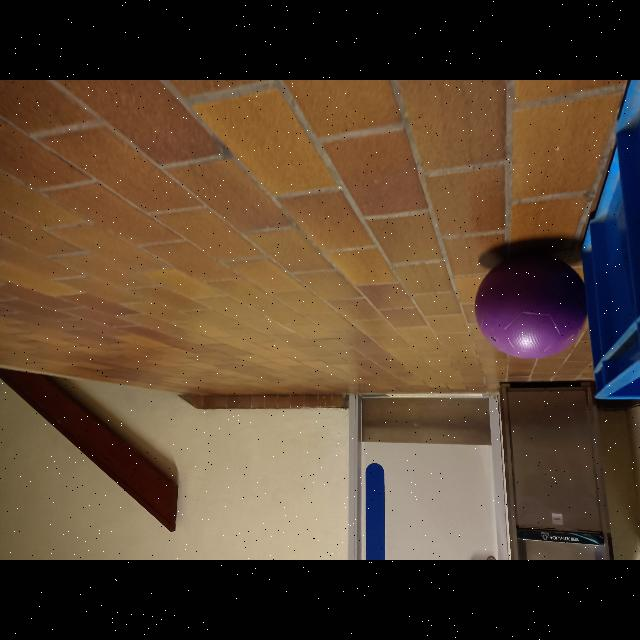P: (473, 242, 589, 362)
